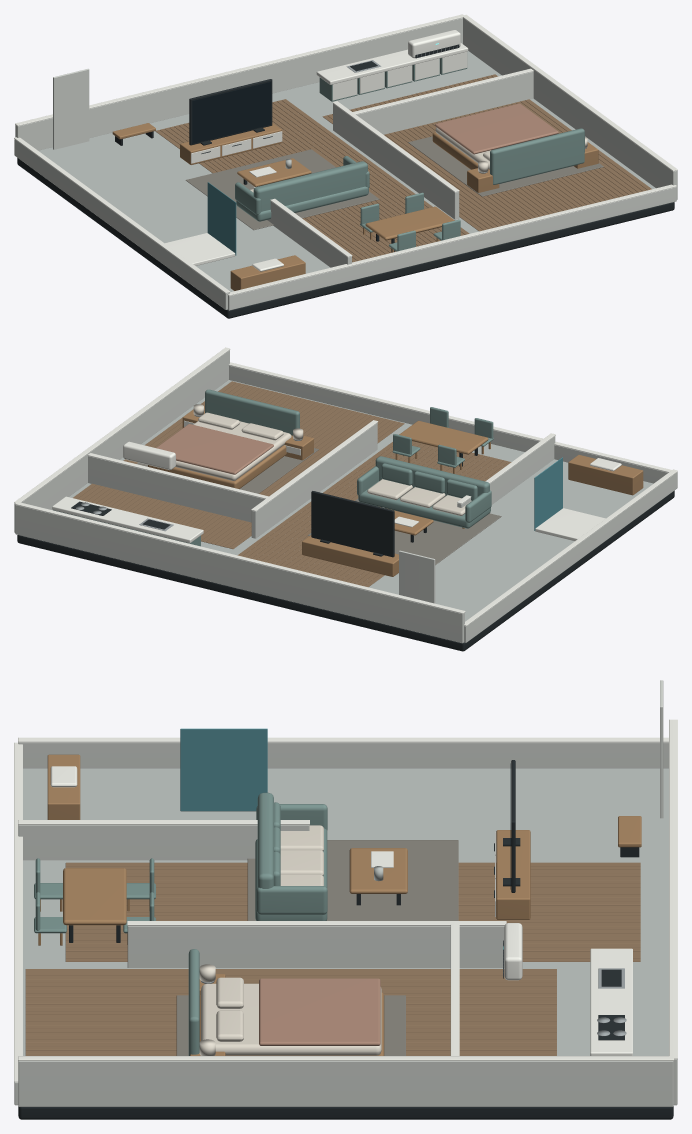
Rendered from home-interior.glb.
3 views of the same model, one above another, from view 1: azimuth 30°, elevation 25°; view 2: azimuth 150°, elevation 25°; view 3: azimuth 270°, elevation 25° (orthographic). The views are drawn at different scales.
Visible parts, largest first — view 1: House_Floor, House_Cutaway_Wall, House_Cutaway_Wall.003, House_Cutaway_Wall.001, House_Foundation, House_Cutaway_Wall.005, House_Cutaway_Wall.002, Bed_Duvet, House_Cutaway_Wall.004, TV_Screen, Bed_Headboard, Living_Room_Rug (+35 smaller); view 2: House_Cutaway_Wall, House_Floor, House_Foundation, House_Cutaway_Wall.001, House_Cutaway_Wall.003, House_Cutaway_Wall.005, TV_Frame, House_Cutaway_Wall.002, House_Cutaway_Wall.004, Bed_Duvet, Living_Room_Rug, Bed_Headboard (+34 smaller); view 3: House_Floor, House_Cutaway_Wall.001, House_Cutaway_Wall.004, House_Cutaway_Wall.002, House_Cutaway_Wall.006, House_Foundation, Living_Room_Rug, Bed_Duvet, Bathroom_Shower_Glass, Bed_Mattress, Dining_Table, Kitchen_Counter (+73 smaller).
Boxes of the visible parts, x1,y1,x2,y2 form: House_Floor: [38, 51, 655, 291]; House_Cutaway_Wall: [15, 18, 462, 150]; House_Cutaway_Wall.003: [228, 187, 676, 310]; House_Cutaway_Wall.001: [463, 18, 677, 199]; House_Foundation: [17, 158, 674, 318]; House_Cutaway_Wall.005: [356, 71, 533, 134]; House_Cutaway_Wall.002: [14, 139, 229, 309]; Bed_Duvet: [435, 103, 558, 154]; House_Cutaway_Wall.004: [333, 103, 459, 219]; TV_Screen: [192, 82, 271, 143]; Bed_Headboard: [490, 128, 584, 184]; Living_Room_Rug: [185, 149, 379, 230]; House_Cutaway_Wall: [15, 505, 464, 643]; House_Floor: [51, 380, 653, 621]; House_Foundation: [17, 490, 674, 651]; House_Cutaway_Wall.001: [14, 350, 229, 532]; House_Cutaway_Wall.003: [229, 365, 668, 483]; House_Cutaway_Wall.005: [88, 456, 264, 522]; TV_Frame: [311, 491, 394, 557]; House_Cutaway_Wall.002: [464, 472, 677, 642]; House_Cutaway_Wall.004: [251, 422, 377, 538]; Bed_Duvet: [156, 424, 273, 474]; Living_Room_Rug: [307, 498, 501, 564]; Bed_Headboard: [205, 389, 299, 435]; House_Floor: [23, 768, 668, 1055]; House_Cutaway_Wall.001: [18, 1061, 673, 1106]; House_Cutaway_Wall.004: [127, 926, 504, 967]; House_Cutaway_Wall.002: [18, 742, 668, 768]; House_Cutaway_Wall.006: [18, 825, 309, 860]; House_Foundation: [18, 1106, 673, 1119]; Living_Room_Rug: [247, 840, 458, 920]; Bed_Duvet: [259, 978, 380, 1045]; Bathroom_Shower_Glass: [180, 728, 267, 811]; Bed_Mattress: [201, 983, 381, 1055]; Dining_Table: [63, 868, 126, 925]; Kitchen_Counter: [590, 948, 632, 1055].
Size of the model in its own units: 22.24 by 3.87 by 18.24.
